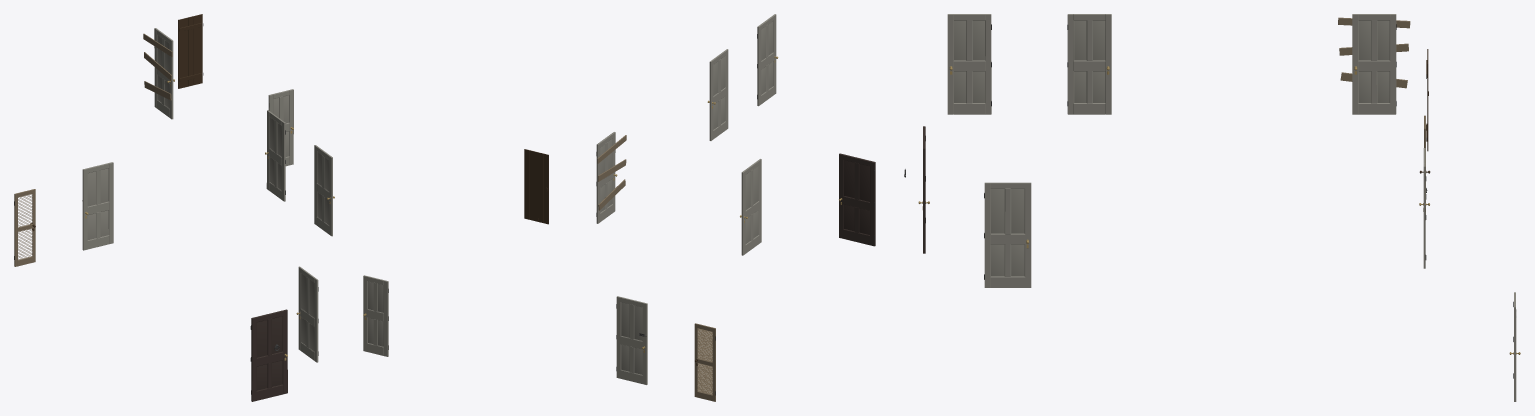
The model's file is doors.glb.
3 views of the same model, side by side, from view 1: azimuth 30°, elevation 25°; view 2: azimuth 150°, elevation 25°; view 3: azimuth 270°, elevation 25° (orthographic). The views are drawn at different scales.
Parts seen in each view (by area): view 1: door_D_FRONT, door_D_PASSAGE, door_D_PARLOR, door_D_WARDROBE_BACK, door_D_HARLAN, door_D_DRESSING, door_D_CLOSET, door_D_ADA, door_D_BACKSTAIR; view 2: door_D_FRONT, door_D_PASSAGE, door_D_BACKSTAIR, door_D_PARLOR, door_D_WARDROBE_BACK, door_D_CLOSET, door_D_DRESSING, door_D_HARLAN, door_D_ADA; view 3: door_D_PARLOR, door_D_DRESSING, door_D_ADA, door_D_HARLAN.
Boxes of the visible parts, x1,y1,x2,y2 form: door_D_FRONT: (250,309,287,401); door_D_PASSAGE: (82,162,113,250); door_D_PARLOR: (296,266,318,362); door_D_WARDROBE_BACK: (178,14,203,88); door_D_HARLAN: (265,110,285,201); door_D_DRESSING: (314,145,334,236); door_D_CLOSET: (14,189,35,266); door_D_ADA: (154,28,174,119); door_D_BACKSTAIR: (268,89,293,166); door_D_FRONT: (839,153,875,246); door_D_PASSAGE: (616,296,647,384); door_D_BACKSTAIR: (363,275,388,356); door_D_PARLOR: (740,159,761,255); door_D_WARDROBE_BACK: (524,149,548,224); door_D_CLOSET: (694,323,715,401); door_D_DRESSING: (757,14,778,106); door_D_HARLAN: (707,49,728,140); door_D_ADA: (596,132,617,223); door_D_PARLOR: (984,182,1031,287); door_D_DRESSING: (947,14,991,114); door_D_ADA: (1352,14,1396,114); door_D_HARLAN: (1067,14,1111,114).
Size of the model in its own units: 8.41 by 5.51 by 11.27.
